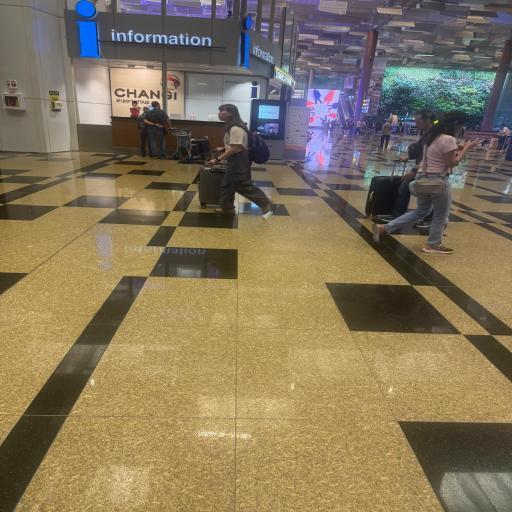person_right: (372, 110, 484, 254)
person_with_luggage_left: (198, 104, 274, 218), (364, 109, 436, 229)
